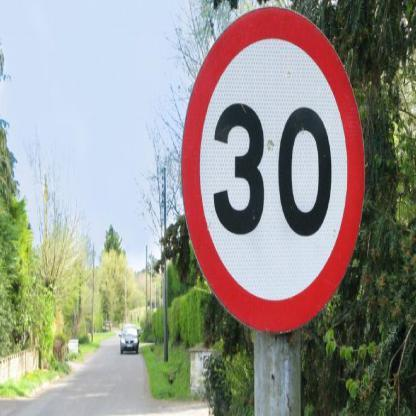Speed Limit 30: (184, 5, 363, 330)
